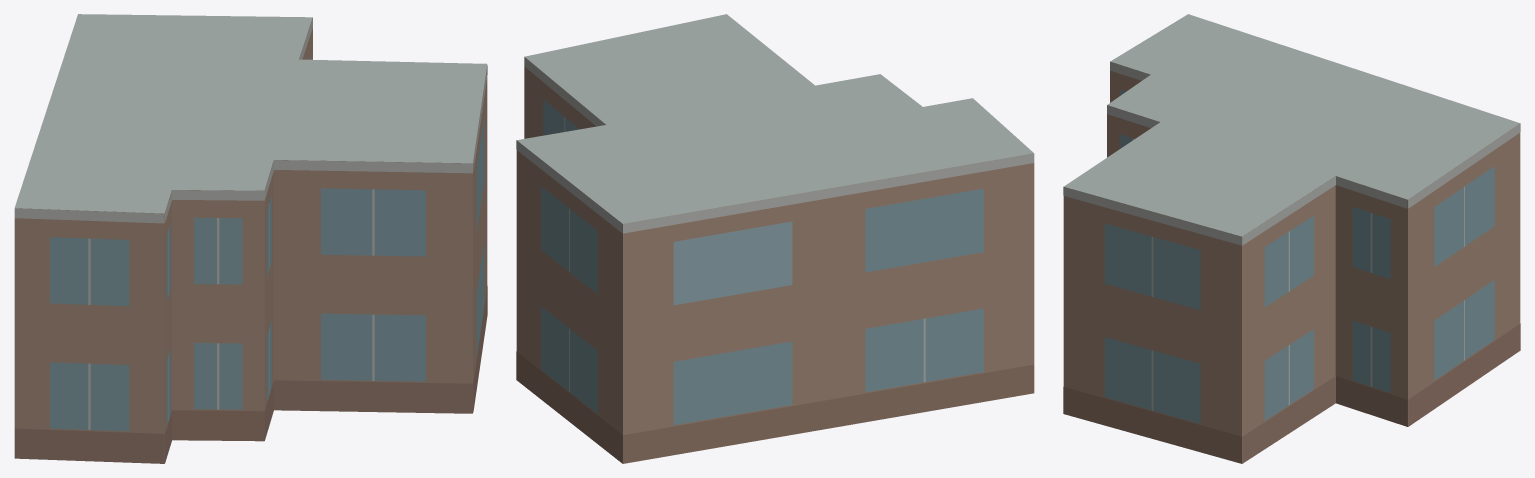
Rendered from survey-upis-32957160.glb.
3 renders of one model, left to right at view 1: azimuth 30°, elevation 25°; view 2: azimuth 150°, elevation 25°; view 3: azimuth 270°, elevation 25°, orthographic. The views are drawn at different scales.
Visible parts, largest first — view 1: survey-upis-32957160.tmp; view 2: survey-upis-32957160.tmp; view 3: survey-upis-32957160.tmp.
Boxes of the visible parts, box(x1,y1,x2,y2) form: survey-upis-32957160.tmp: box(14, 14, 487, 463); survey-upis-32957160.tmp: box(516, 14, 1034, 463); survey-upis-32957160.tmp: box(1063, 14, 1520, 463).
Size of the model in its own units: 12.83 by 6.1 by 11.13.
